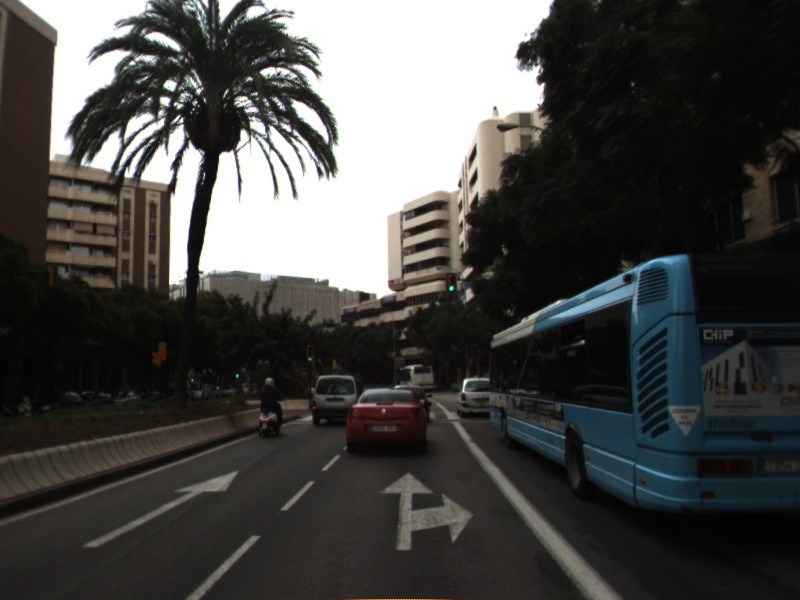STRAIGHT: (79, 469, 241, 550)
STRAIGHT_RIGHT: (377, 470, 476, 552)
